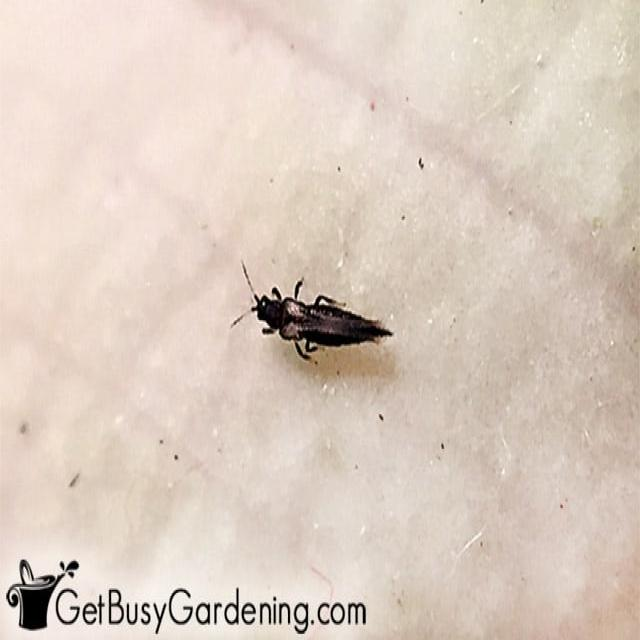Thrip-Adult-: (222, 256, 408, 379)
